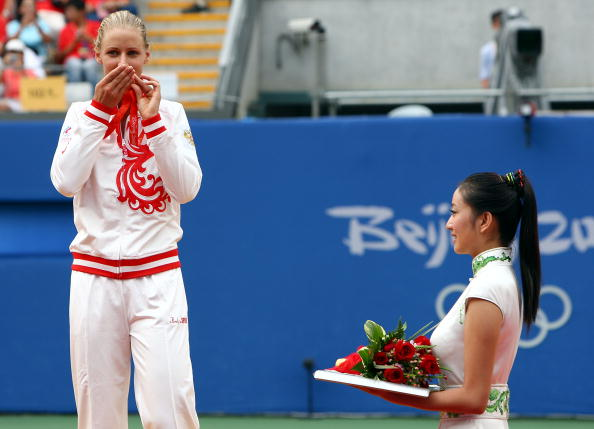face: (445, 190, 491, 253), (99, 37, 147, 89)
